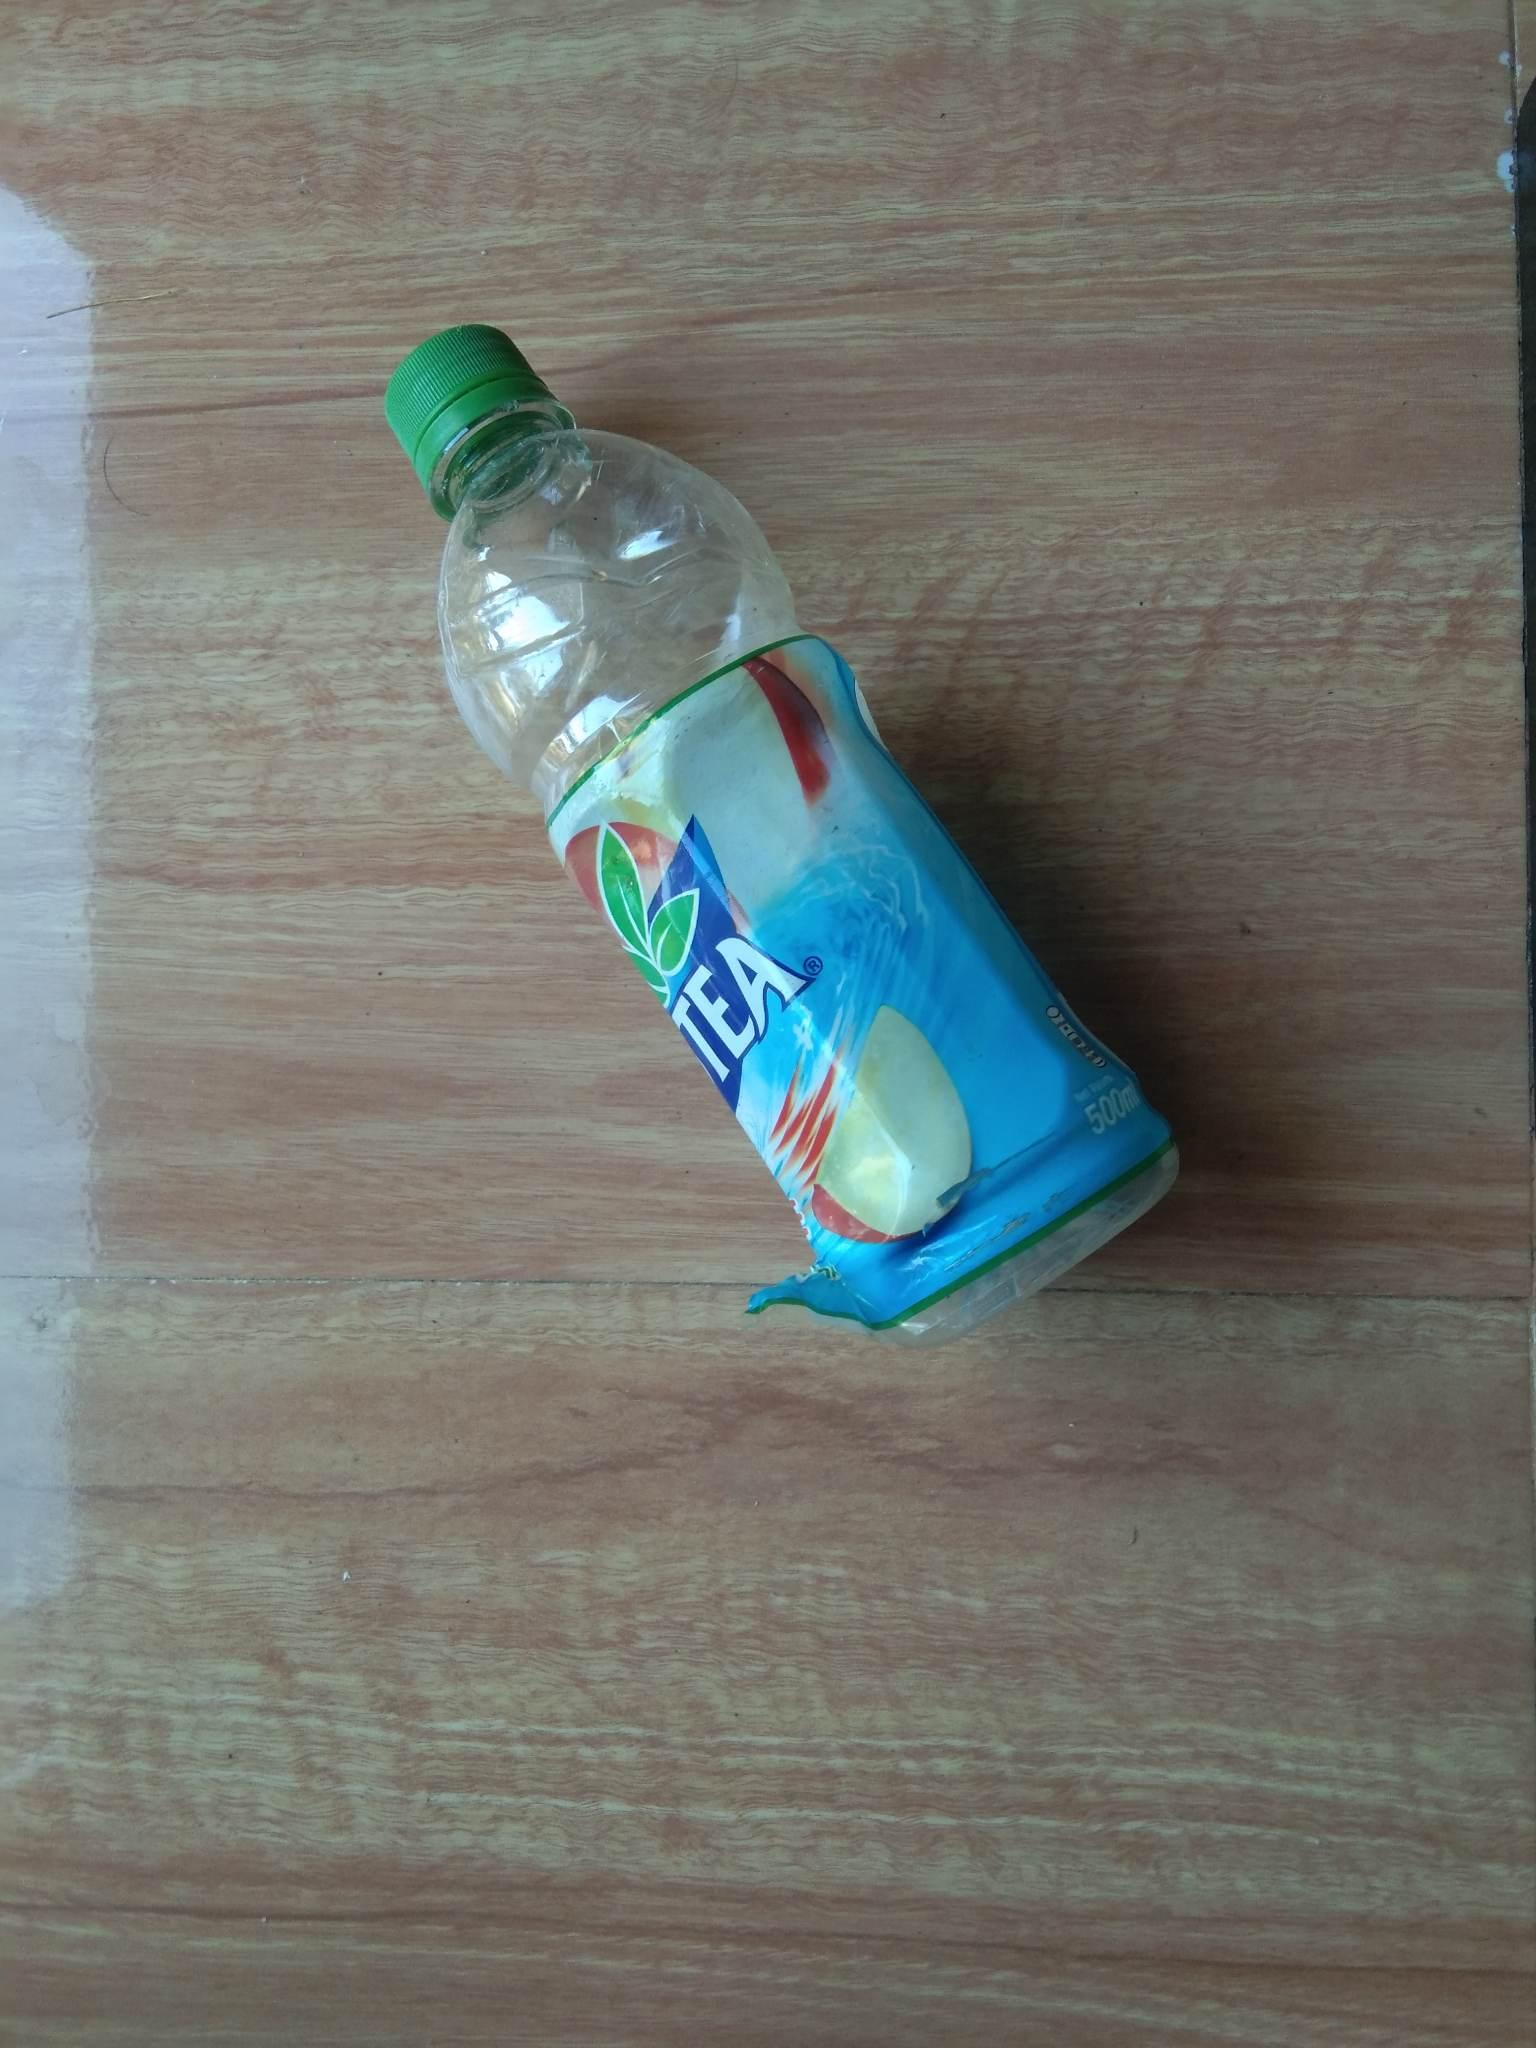plastic: (232, 231, 1347, 1414)
